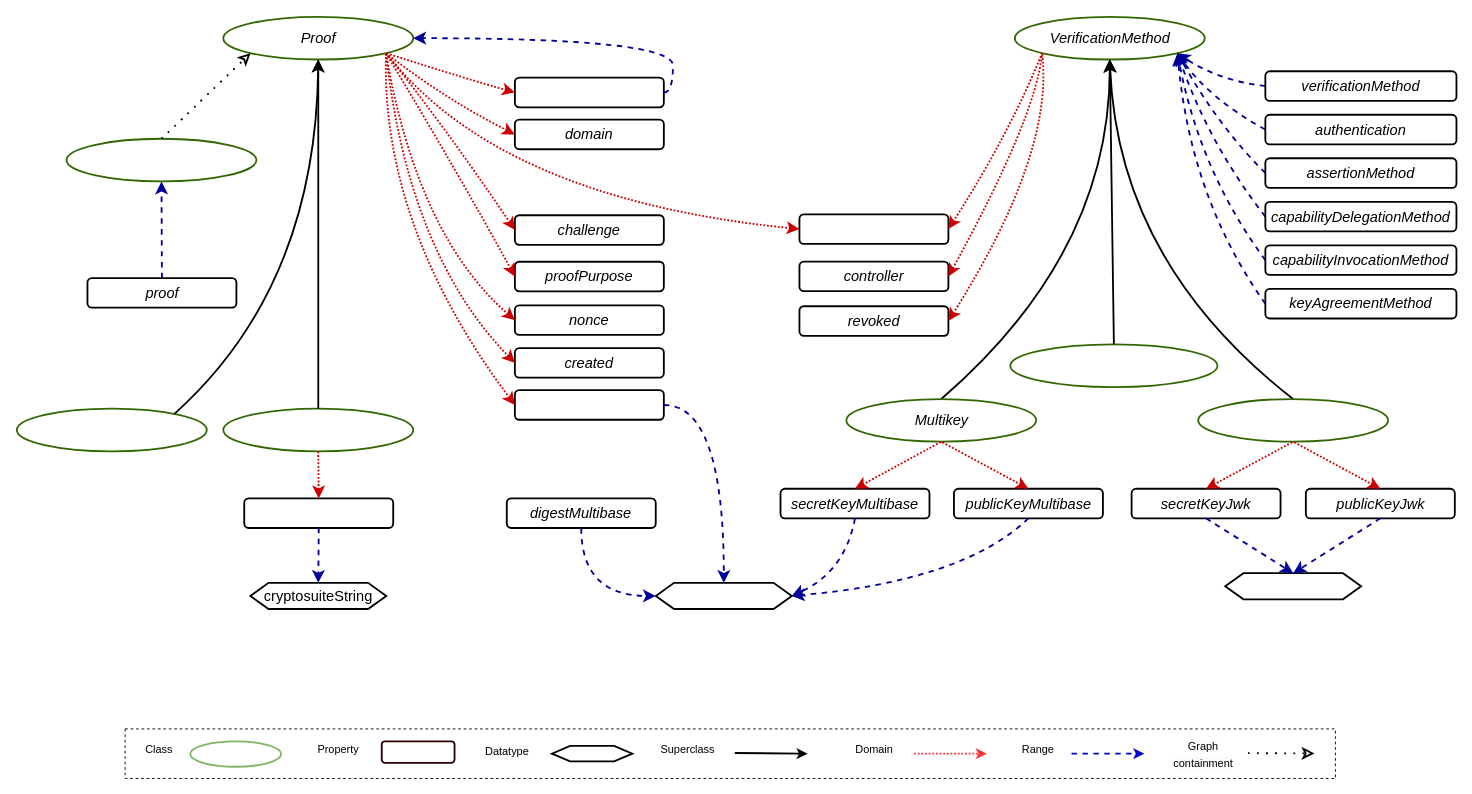
Some shapes in this 1472 by 794 pixel diagram are drawn without their labels. Here are the shapes that lost their labels. From the top down, the box of each, then its label:
(514, 76, 664, 108): previousProof
(65, 137, 257, 182): ProofGraph
(798, 213, 949, 244): expiration
(1009, 343, 1218, 388): Ed25519VerificationKey2020
(514, 389, 664, 420): proofValue
(1197, 398, 1389, 442): JsonWebKey
(15, 407, 207, 452): Ed25519Signature2020
(222, 407, 414, 452): DataIntegrityProof
(243, 497, 394, 528): cryptosuite
(654, 581, 792, 609): multibase
(1224, 572, 1362, 600): rdf:JSON
